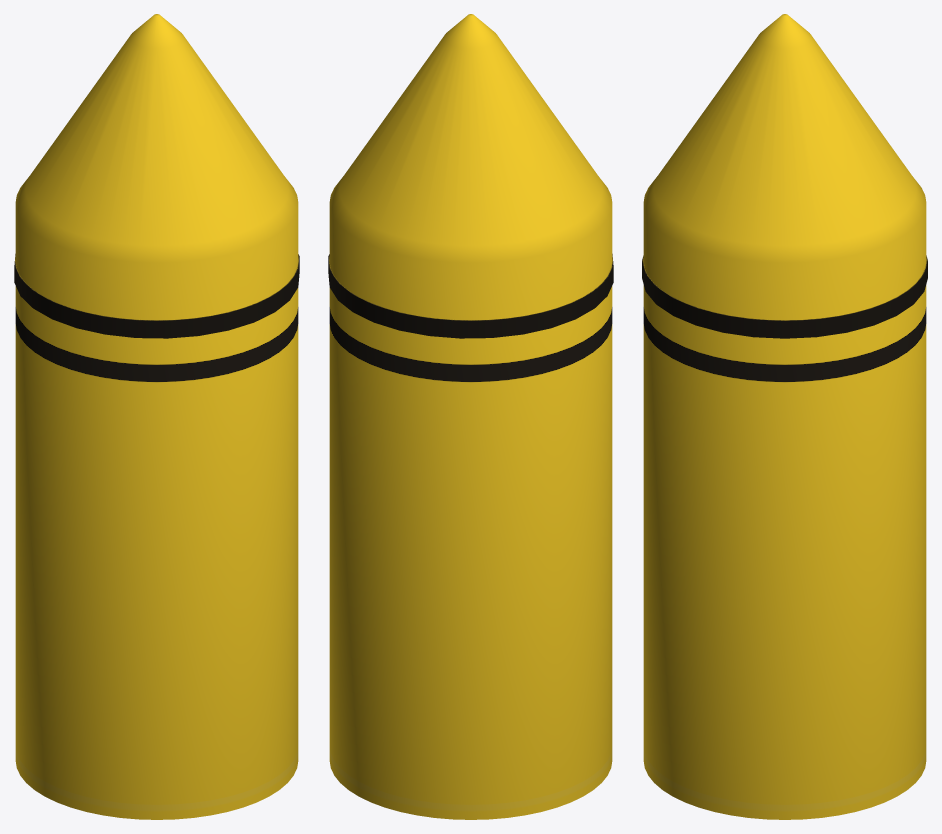
File: 15-topper-back-left.fbx
3 views of the same model, side by side, from view 1: azimuth 30°, elevation 25°; view 2: azimuth 150°, elevation 25°; view 3: azimuth 270°, elevation 25° (orthographic).
Visible parts, largest first — view 1: topper-back-left; view 2: topper-back-left; view 3: topper-back-left.
Boxes of the visible parts, box(x1,y1,x2,y2) form: topper-back-left: box(14, 14, 299, 819); topper-back-left: box(328, 14, 613, 819); topper-back-left: box(642, 14, 927, 819).
Bounding box in the file's own units: 2344 × 6740 × 2344.
Materials: 1 (1 with a texture image).
